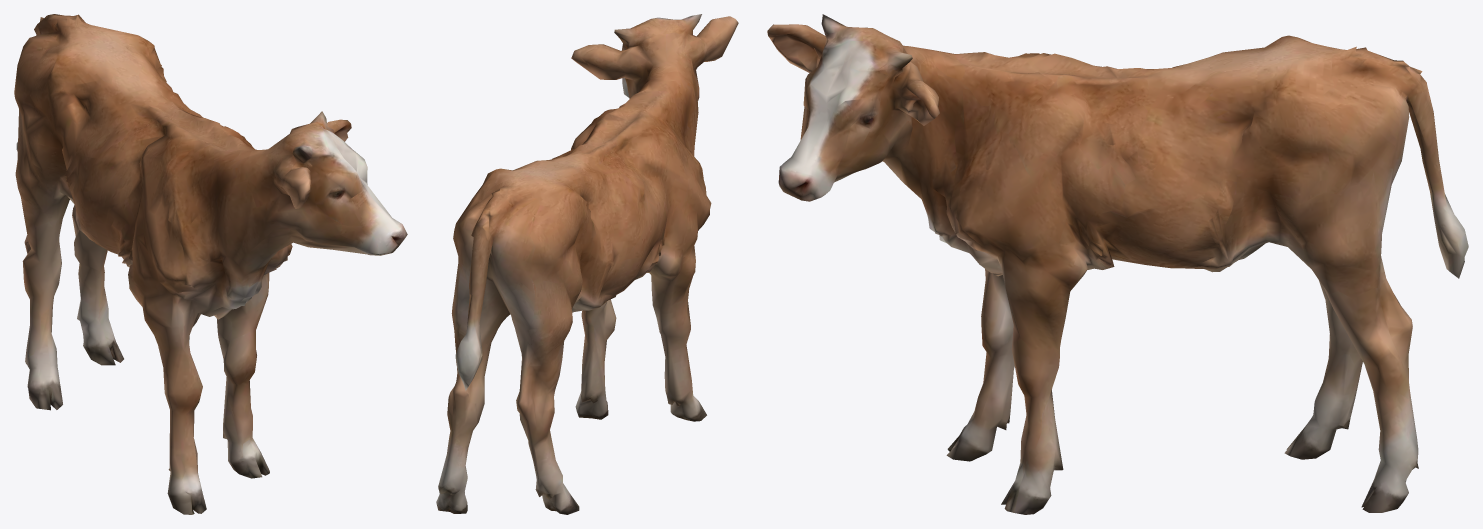
File: animal_calf.glb
The picture shows the model from 3 angles, left to right: view 1: azimuth 30°, elevation 25°; view 2: azimuth 150°, elevation 25°; view 3: azimuth 270°, elevation 25°; orthographic projection. The views are drawn at different scales.
Visible parts, largest first — view 1: tripo_node_e0ce8264-434a-40c7-baaa-e2a3d6393a0d; view 2: tripo_node_e0ce8264-434a-40c7-baaa-e2a3d6393a0d; view 3: tripo_node_e0ce8264-434a-40c7-baaa-e2a3d6393a0d.
Boxes of the visible parts, box(x1,y1,x2,y2) form: tripo_node_e0ce8264-434a-40c7-baaa-e2a3d6393a0d: box(14, 14, 407, 514); tripo_node_e0ce8264-434a-40c7-baaa-e2a3d6393a0d: box(436, 14, 738, 514); tripo_node_e0ce8264-434a-40c7-baaa-e2a3d6393a0d: box(767, 14, 1468, 514).
Size of the model in its own units: 0.3352 by 0.7274 by 0.9808.
Materials: 1 (1 with a texture image).
